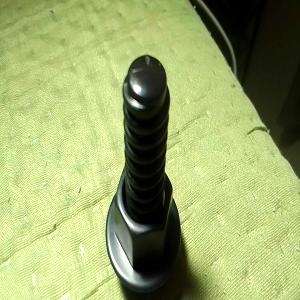parafuso: (106, 54, 182, 294)
